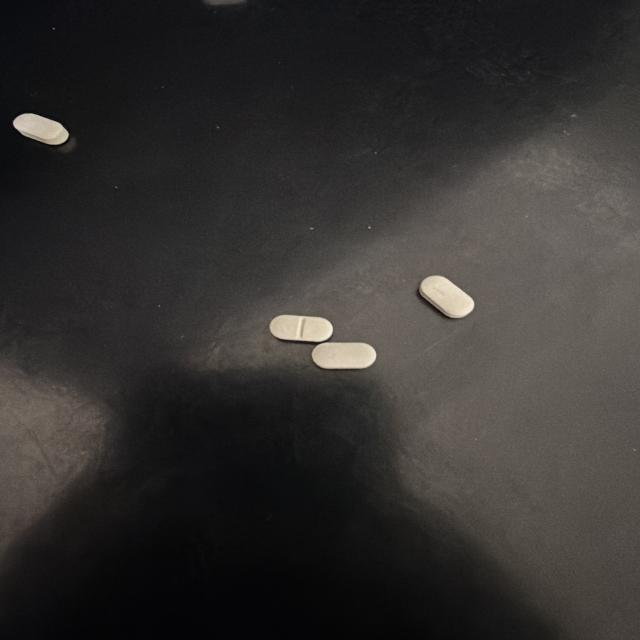pill: (420, 276, 474, 318), (13, 114, 68, 145), (270, 315, 333, 342), (312, 343, 376, 369), (204, 0, 247, 5)
